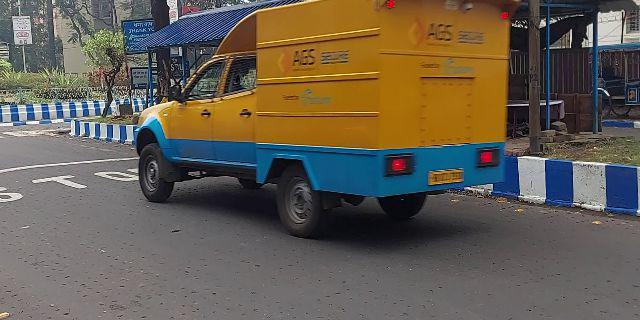Minitruck: (134, 4, 520, 236)
